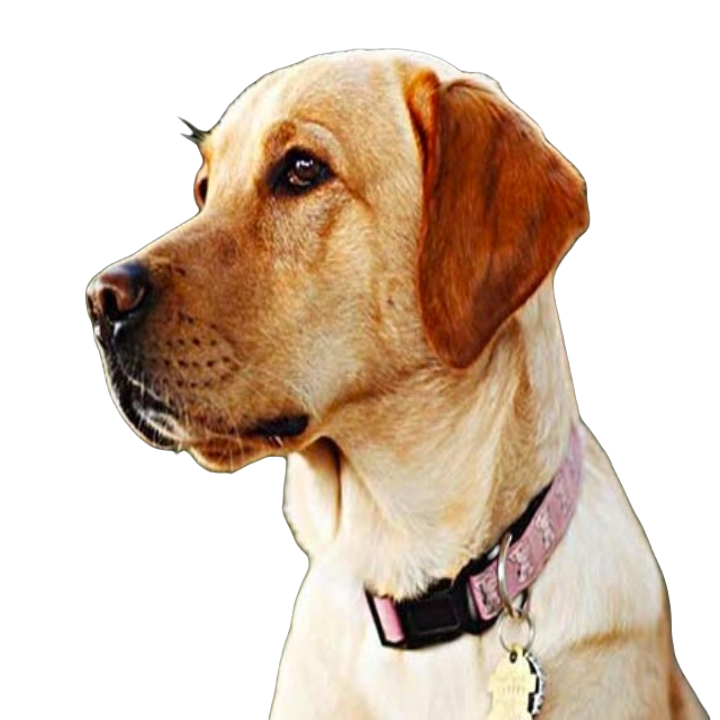Dog: (82, 46, 719, 713)
